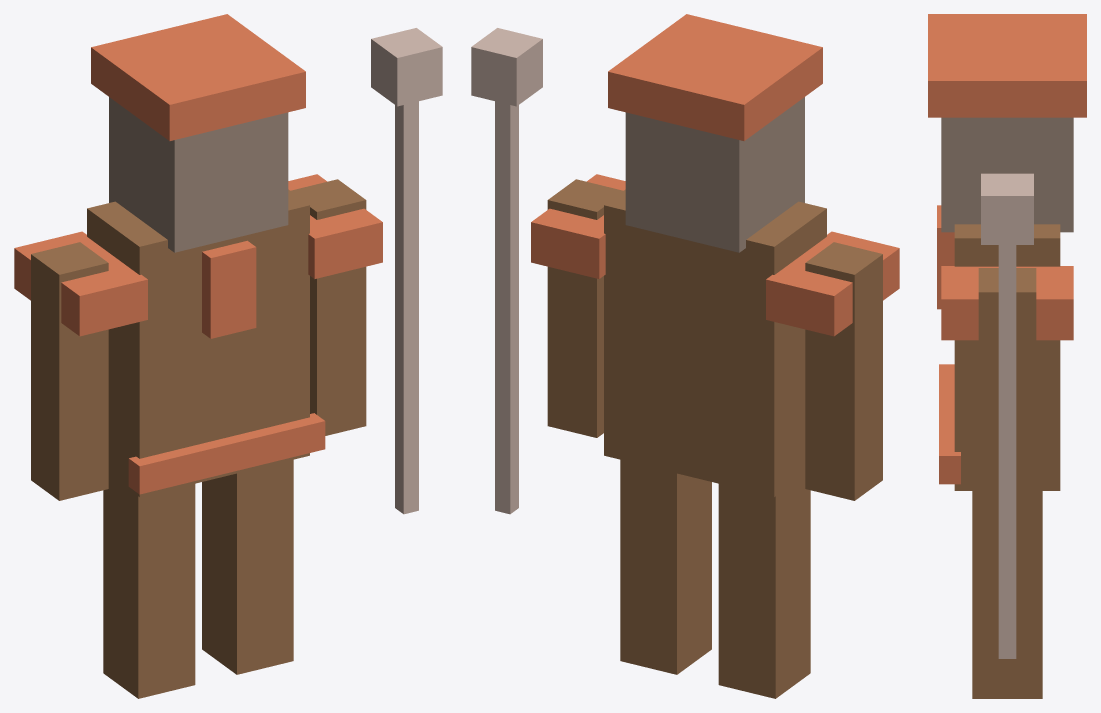
The model's file is 01_noor_gantryn_marshal_of_verse.glb.
3 renders of one model, left to right at view 1: azimuth 30°, elevation 25°; view 2: azimuth 150°, elevation 25°; view 3: azimuth 270°, elevation 25°, orthographic.
Parts seen in each view (by area): view 1: Noor Gantryn, Marshal of Verse; view 2: Noor Gantryn, Marshal of Verse; view 3: Noor Gantryn, Marshal of Verse.
Part boxes in pixels (box(x1,y1,x2,y2)): Noor Gantryn, Marshal of Verse: box(14, 14, 442, 698); Noor Gantryn, Marshal of Verse: box(471, 14, 899, 698); Noor Gantryn, Marshal of Verse: box(928, 14, 1086, 698).
Size of the model in its own units: 0.9789 by 1.48 by 0.3472.
